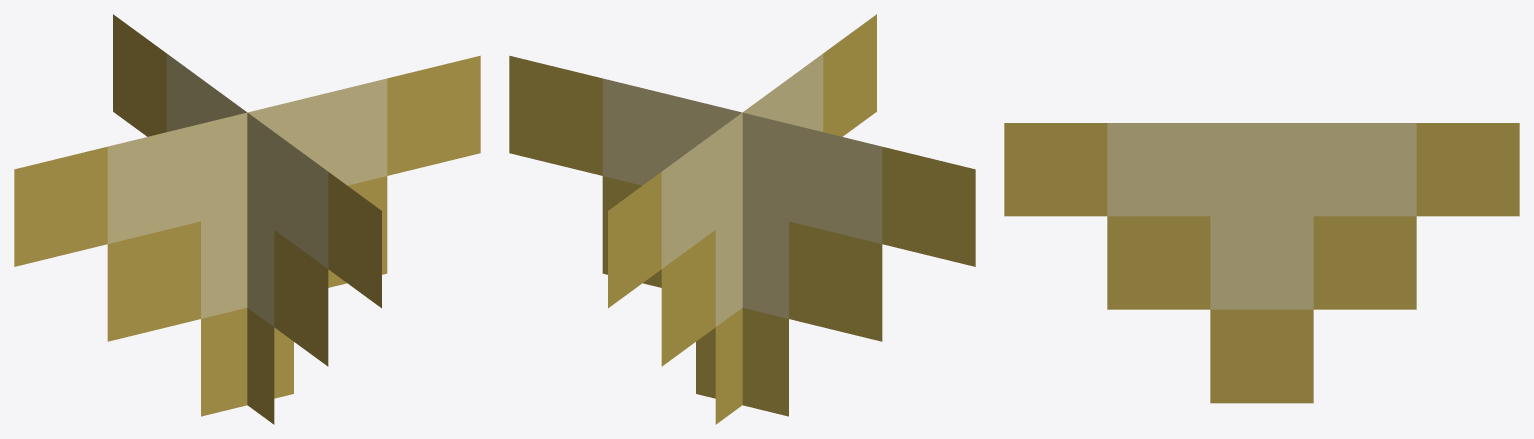
The model's file is checkpoint_active.glb.
3 views of the same model, side by side, from view 1: azimuth 30°, elevation 25°; view 2: azimuth 150°, elevation 25°; view 3: azimuth 270°, elevation 25° (orthographic). The views are drawn at different scales.
Parts seen in each view (by area): view 1: Plane.001, Plane; view 2: Plane.001, Plane; view 3: Plane.
Boxes of the visible parts, left/top/right/bottom form: Plane.001: left=14, top=55, right=480, bottom=416; Plane: left=113, top=14, right=381, bottom=424; Plane.001: left=509, top=55, right=975, bottom=416; Plane: left=608, top=14, right=876, bottom=424; Plane: left=1004, top=123, right=1519, bottom=403.
Size of the model in its own units: 2 by 1.2 by 2.
1 material, 1 textured.
